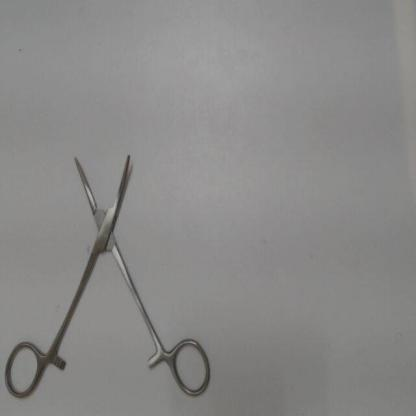Crile Artery Forceps: (0, 149, 212, 404)
